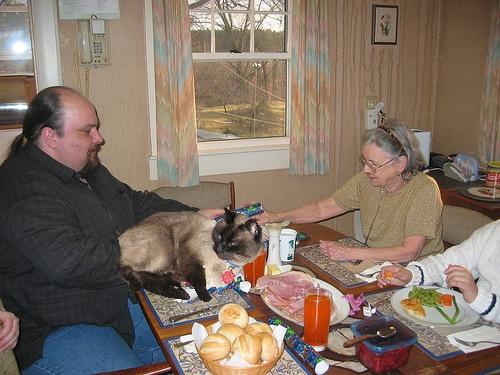tampered: (119, 208, 262, 302)
